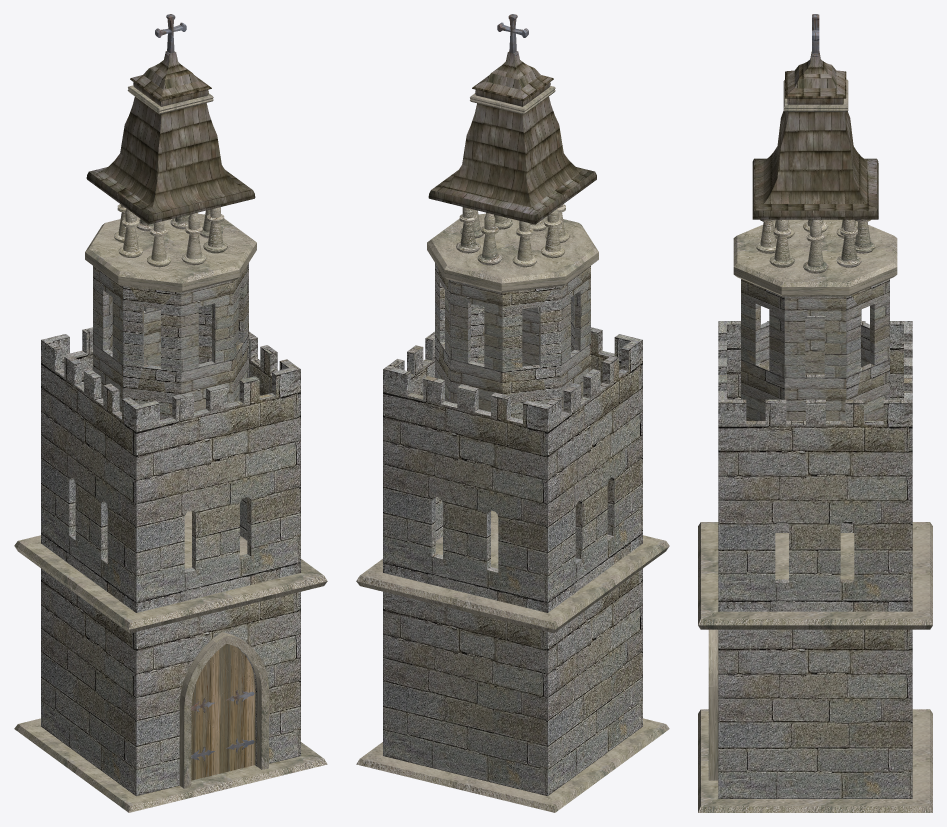
3 renders of one model, left to right at view 1: azimuth 30°, elevation 25°; view 2: azimuth 150°, elevation 25°; view 3: azimuth 270°, elevation 25°, orthographic. The views are drawn at different scales.
Visible parts, largest first — view 1: T_LOW, T_MID, T_TOP, T_TRIM_1, T_TRIM_2, T_DOOR, T_BASE, T_ARCH, T_COLLS, T_TRIM_3, T_HINGE; view 2: T_LOW, T_MID, T_TOP, T_TRIM_1, T_TRIM_2, T_BASE, T_COLLS, T_TRIM_3; view 3: T_LOW, T_MID, T_TOP, T_TRIM_1, T_TRIM_2, T_BASE, T_COLLS, T_ARCH, T_TRIM_3.
Boxes of the visible parts, box(x1,y1,x2,y2) form: T_LOW: box(41, 327, 300, 796); T_MID: box(93, 263, 248, 420); T_TOP: box(86, 51, 255, 224); T_TRIM_1: box(14, 511, 327, 633); T_TRIM_2: box(85, 213, 256, 292); T_DOOR: box(191, 643, 255, 780); T_BASE: box(14, 718, 327, 812); T_ARCH: box(179, 632, 268, 788); T_COLLS: box(114, 204, 227, 267); T_TRIM_3: box(127, 85, 213, 114); T_HINGE: box(191, 690, 254, 761); T_LOW: box(383, 327, 642, 795); T_MID: box(435, 263, 590, 419); T_TOP: box(428, 51, 596, 224); T_TRIM_1: box(356, 510, 669, 633); T_TRIM_2: box(427, 213, 598, 292); T_BASE: box(356, 718, 669, 812); T_COLLS: box(456, 204, 569, 267); T_TRIM_3: box(470, 86, 555, 114); T_LOW: box(718, 321, 912, 798); T_MID: box(741, 279, 889, 420); T_TOP: box(752, 51, 878, 219); T_TRIM_1: box(698, 522, 932, 629); T_TRIM_2: box(733, 219, 897, 296); T_BASE: box(698, 709, 932, 812); T_COLLS: box(756, 219, 875, 273); T_ARCH: box(708, 629, 718, 780); T_TRIM_3: box(783, 79, 848, 111).
Bounding box in the file's own units: 195 × 684 × 195.
5 materials, 5 textured.
